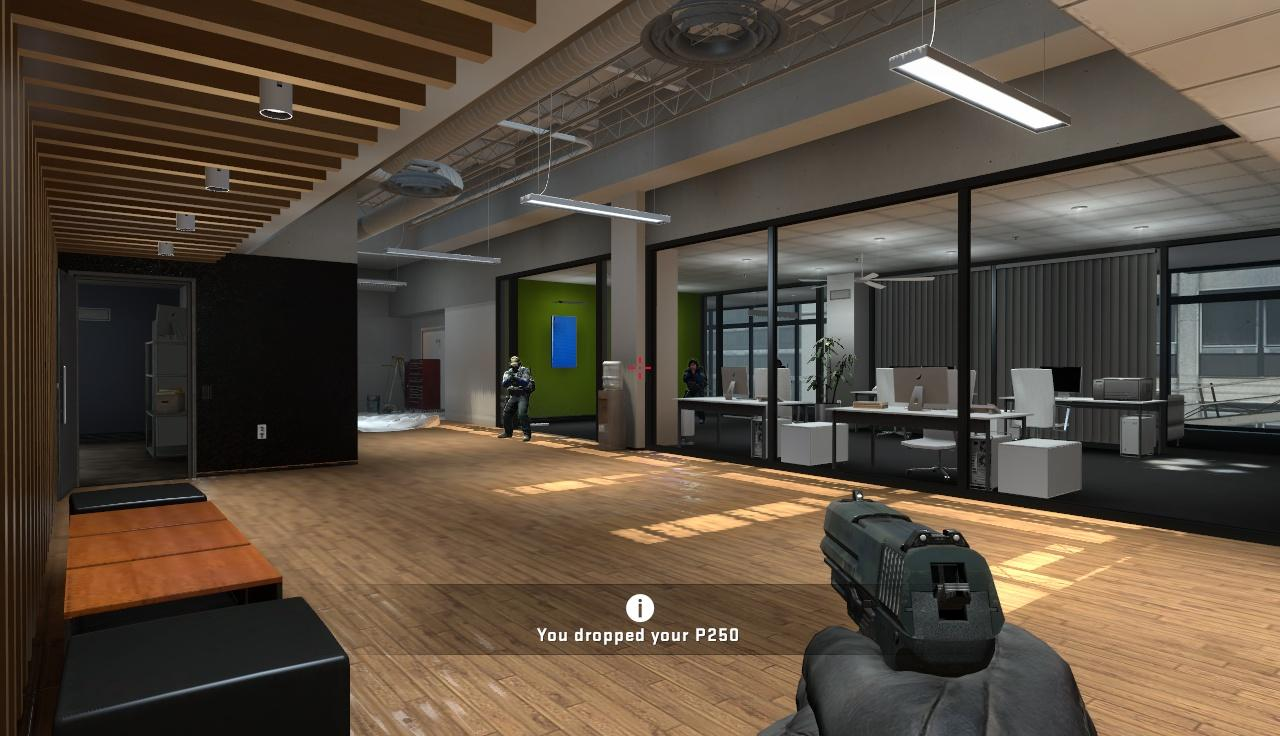ct: (501, 356, 530, 442), (683, 358, 705, 397)
cthead: (509, 356, 520, 371), (688, 359, 698, 372)
pistol: (813, 490, 1092, 736)
